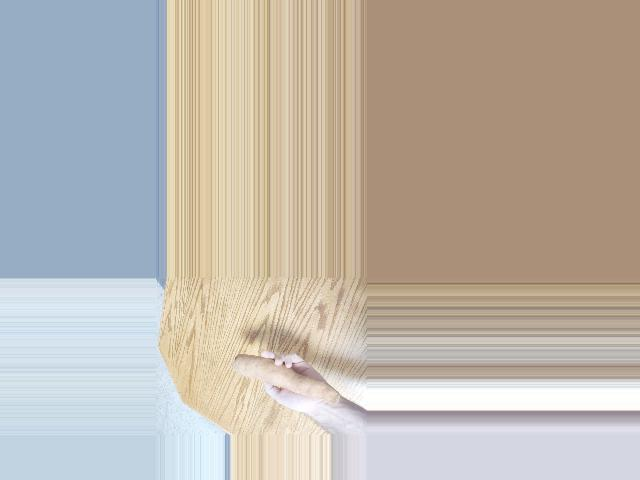sweet_potato: (231, 352, 337, 403)
